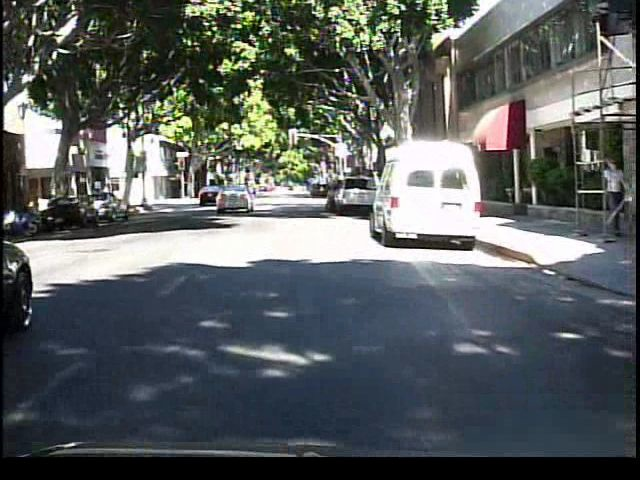person: (595, 153, 625, 244), (238, 176, 261, 209)
